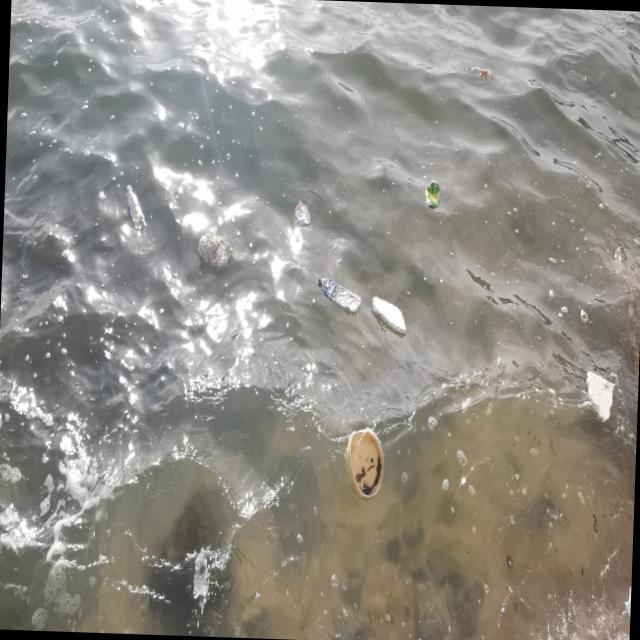can: (424, 180, 441, 209)
foam: (197, 232, 234, 272), (622, 583, 631, 630)
plastic: (316, 275, 362, 314), (124, 182, 148, 232), (464, 62, 493, 84)
plastic bottle: (342, 424, 386, 504), (583, 370, 615, 426), (370, 296, 408, 338)
unknow: (292, 198, 311, 228)
